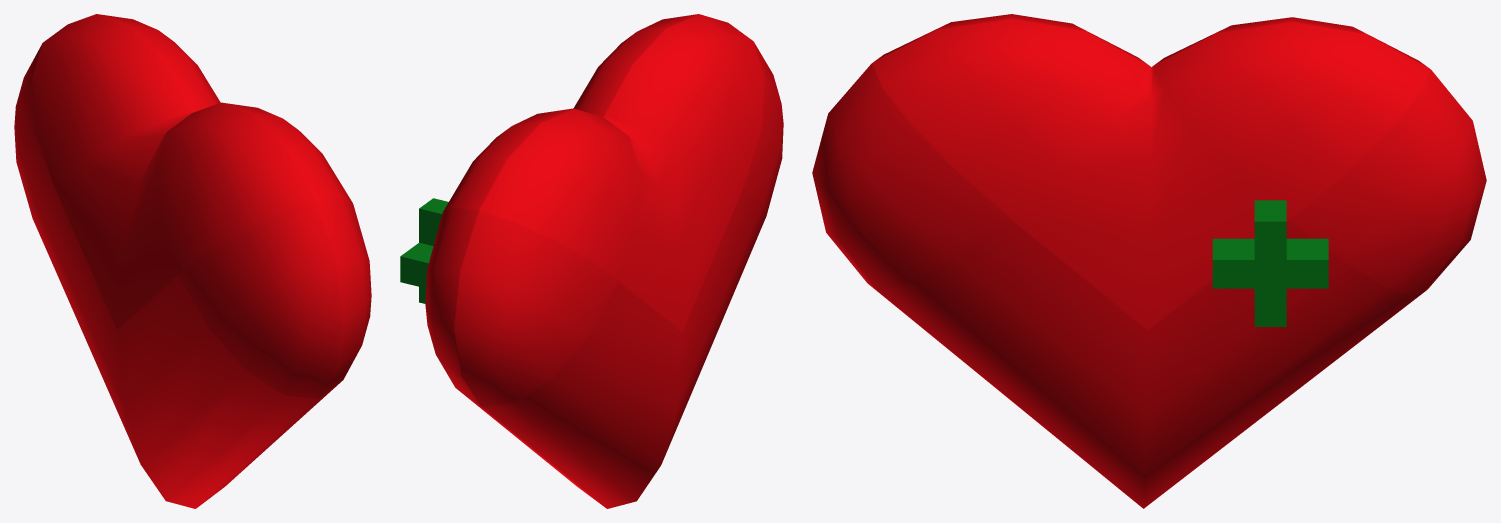
File: BeatingHeart.glb
3 views of the same model, side by side, from view 1: azimuth 30°, elevation 25°; view 2: azimuth 150°, elevation 25°; view 3: azimuth 270°, elevation 25° (orthographic). The views are drawn at different scales.
Visible parts, largest first — view 1: Heart; view 2: Heart, Plus; view 3: Heart, Plus.
Boxes of the visible parts, bbox=[...] form: Heart: bbox=[14, 14, 371, 508]; Heart: bbox=[425, 14, 783, 508]; Plus: bbox=[400, 198, 448, 303]; Heart: bbox=[812, 14, 1486, 508]; Plus: bbox=[1212, 200, 1328, 326].
Bounding box in the file's own units: 0.1624 × 0.337 × 0.4204.
